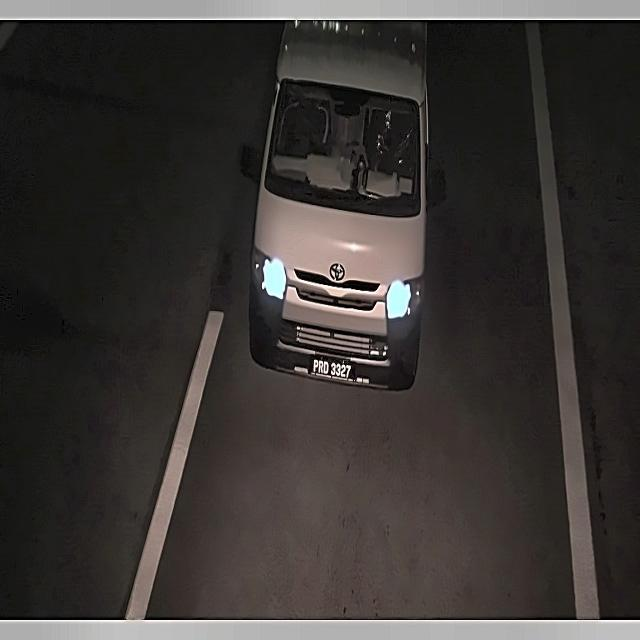car: (310, 353, 357, 387)
